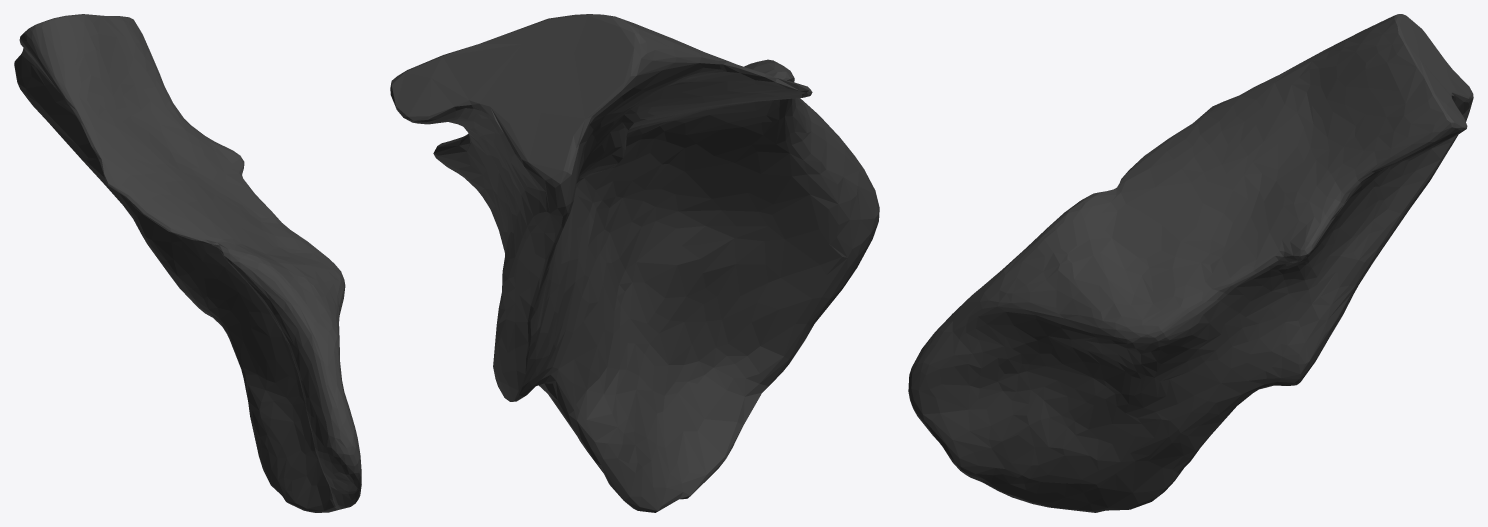
The model's file is Ventricle_1_R_rost_horn.glb.
The picture shows the model from 3 angles, left to right: view 1: azimuth 30°, elevation 25°; view 2: azimuth 150°, elevation 25°; view 3: azimuth 270°, elevation 25°; orthographic projection. The views are drawn at different scales.
Visible parts, largest first — view 1: Ventricle_1_R_rost_horn; view 2: Ventricle_1_R_rost_horn; view 3: Ventricle_1_R_rost_horn.
Boxes of the visible parts, x1,y1,x2,y2 form: Ventricle_1_R_rost_horn: [14, 14, 361, 512]; Ventricle_1_R_rost_horn: [390, 14, 879, 512]; Ventricle_1_R_rost_horn: [908, 14, 1473, 512].
Size of the model in its own units: 0.0177 by 0.0342 by 0.0394.
1 material, 1 textured.
